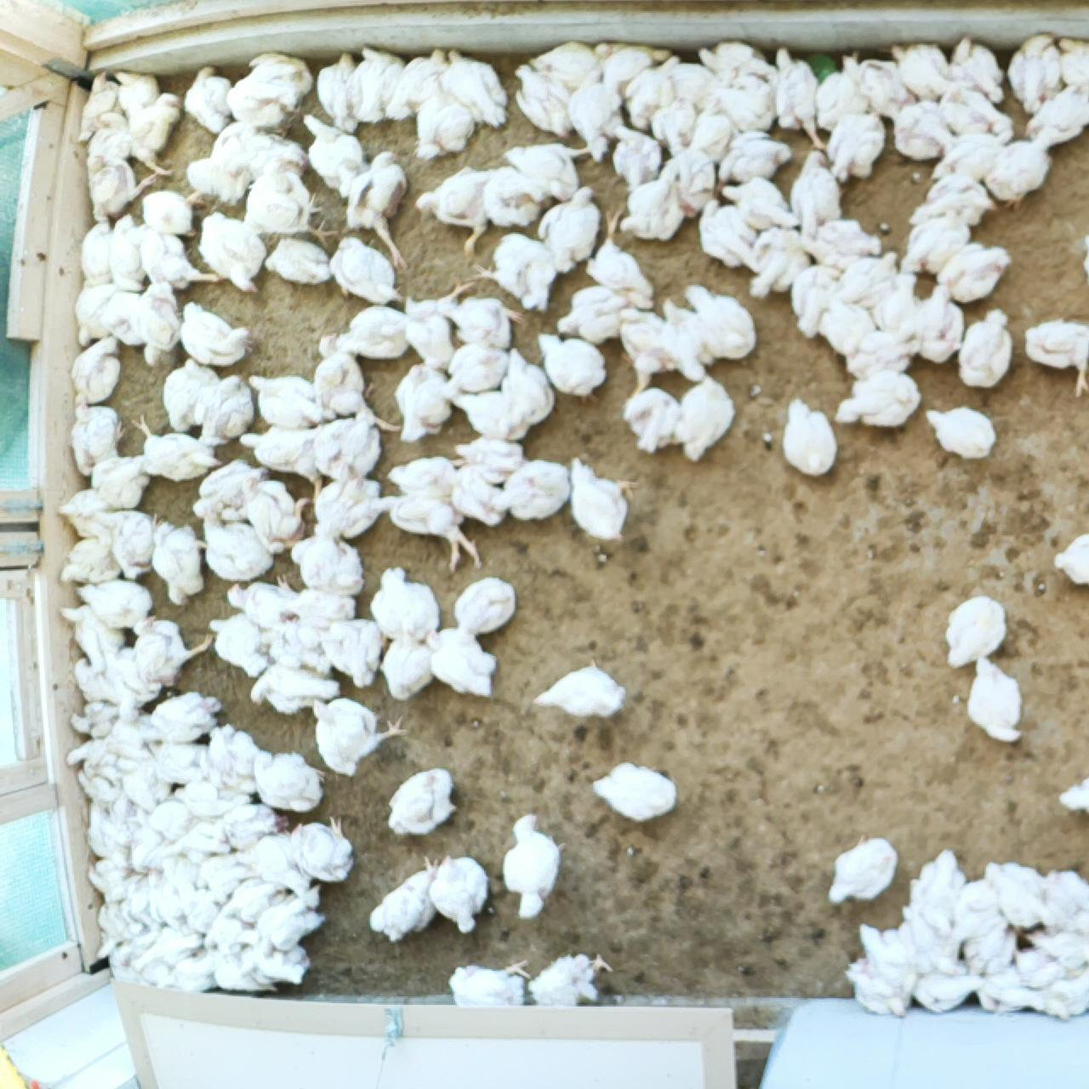chicken: (240, 155, 338, 248), (374, 491, 484, 573), (308, 332, 398, 432), (340, 147, 410, 270), (311, 696, 409, 777), (416, 164, 500, 256), (585, 208, 658, 313), (502, 810, 568, 918), (239, 421, 324, 503), (370, 850, 443, 943), (472, 232, 555, 313), (405, 279, 472, 376), (131, 413, 222, 483), (617, 307, 681, 404), (532, 656, 627, 721), (526, 946, 613, 1015), (134, 613, 215, 687), (134, 223, 220, 292), (823, 830, 899, 908), (439, 50, 512, 130), (964, 655, 1028, 746), (566, 454, 632, 542), (687, 280, 758, 361), (498, 345, 557, 442), (369, 566, 440, 646), (770, 44, 824, 149), (983, 130, 1053, 210), (539, 184, 601, 274), (240, 473, 309, 553), (385, 764, 461, 836), (288, 526, 364, 598), (590, 760, 678, 822), (677, 375, 739, 463), (199, 211, 263, 296), (248, 660, 343, 717), (508, 141, 595, 203), (177, 298, 256, 366), (942, 592, 1009, 672), (833, 366, 922, 426), (536, 331, 608, 405), (330, 237, 405, 308), (956, 304, 1016, 392), (300, 113, 362, 198), (908, 845, 964, 939), (427, 628, 499, 701), (86, 151, 158, 224), (233, 831, 310, 899), (491, 456, 570, 522), (383, 47, 450, 124), (1024, 317, 1089, 396), (569, 66, 623, 161), (842, 51, 915, 121), (314, 408, 382, 483), (509, 64, 576, 140), (622, 165, 686, 244), (150, 519, 208, 606), (899, 205, 971, 275), (201, 513, 274, 582), (251, 748, 327, 814), (393, 362, 454, 444), (905, 173, 999, 226), (429, 850, 489, 933), (781, 396, 841, 479), (246, 372, 333, 429), (345, 44, 407, 123), (1022, 78, 1089, 151), (126, 90, 184, 174), (92, 508, 157, 582), (935, 239, 1009, 304), (309, 475, 384, 539), (1007, 29, 1062, 116), (892, 907, 961, 976), (320, 617, 386, 689), (910, 282, 967, 365), (661, 295, 714, 384), (448, 386, 532, 442), (130, 280, 184, 367), (825, 104, 886, 181), (254, 617, 332, 677), (929, 128, 1014, 183), (792, 150, 842, 243), (800, 217, 883, 273), (858, 918, 918, 995), (71, 396, 127, 478), (162, 356, 219, 436), (482, 165, 551, 231), (719, 177, 800, 233), (748, 225, 810, 298), (414, 77, 468, 160), (623, 52, 681, 129), (448, 957, 532, 1010), (378, 625, 435, 703), (447, 292, 525, 349), (698, 200, 757, 275), (452, 575, 520, 640), (140, 689, 221, 743), (75, 576, 153, 632), (716, 62, 775, 136), (58, 603, 122, 671), (220, 573, 299, 628), (814, 52, 869, 131), (100, 647, 157, 723), (197, 372, 254, 448), (558, 285, 630, 345), (608, 123, 666, 197), (288, 815, 353, 881), (446, 460, 508, 529), (946, 33, 1007, 103), (659, 146, 718, 218), (843, 957, 912, 1018), (226, 81, 301, 137), (719, 127, 791, 185), (622, 388, 684, 455), (792, 261, 843, 342), (649, 73, 698, 157), (206, 612, 268, 678), (446, 337, 511, 399), (924, 404, 997, 459), (385, 456, 460, 509), (336, 304, 411, 357), (181, 153, 249, 211), (985, 861, 1043, 929), (969, 965, 1042, 1019), (891, 42, 957, 101), (68, 334, 122, 406), (316, 52, 364, 133), (834, 249, 901, 307), (526, 38, 607, 85), (952, 873, 1003, 947), (237, 50, 314, 99), (71, 280, 126, 348), (595, 38, 671, 87), (913, 964, 986, 1015), (871, 268, 922, 341), (885, 97, 946, 158), (88, 452, 153, 509), (697, 39, 775, 86), (202, 724, 255, 792), (76, 68, 124, 143), (937, 86, 1013, 133), (223, 802, 293, 853), (845, 330, 917, 379), (819, 291, 873, 356), (682, 94, 734, 160), (455, 435, 528, 482), (1040, 865, 1089, 935), (82, 801, 133, 868), (184, 64, 232, 135), (255, 896, 308, 960), (136, 187, 205, 236), (172, 778, 251, 820), (266, 236, 333, 285), (107, 211, 147, 293), (132, 924, 201, 971), (280, 586, 359, 627), (58, 486, 118, 539), (964, 918, 1019, 975), (60, 536, 120, 588), (660, 54, 721, 105), (84, 110, 132, 174), (115, 756, 170, 811), (162, 815, 232, 858), (147, 741, 215, 785), (220, 875, 283, 922), (245, 133, 308, 180), (1038, 969, 1089, 1026), (100, 290, 150, 347), (111, 67, 158, 127), (244, 945, 307, 988), (77, 219, 116, 288), (1025, 926, 1089, 967), (211, 947, 266, 993), (103, 714, 158, 760), (64, 732, 118, 778), (1010, 944, 1066, 988), (147, 867, 186, 929), (87, 854, 138, 901), (160, 953, 217, 995), (198, 913, 258, 952), (92, 904, 133, 961), (1050, 533, 1089, 590), (69, 699, 122, 740), (70, 660, 116, 707), (209, 119, 256, 165), (137, 800, 190, 840), (127, 824, 168, 874), (1052, 33, 1089, 88), (120, 872, 154, 930), (104, 940, 144, 986), (129, 949, 173, 990), (206, 862, 249, 903), (73, 767, 120, 804), (162, 855, 200, 900), (183, 885, 219, 931), (195, 851, 236, 889), (1058, 775, 1089, 813)
